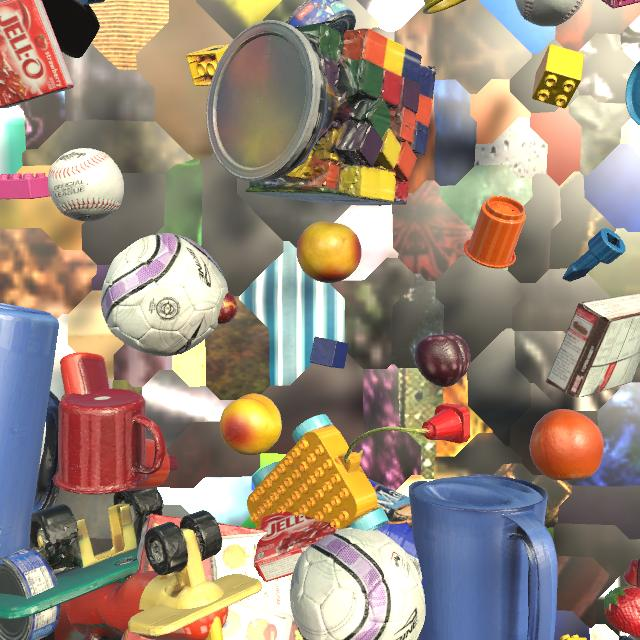ycb_002_master_chef_can: (367, 478, 424, 591)
ycb_003_cracker_box: (121, 513, 303, 640)
ycb_007_tuna_fish_can: (0, 549, 61, 640), (286, 0, 356, 34)
ycb_008_pudding_box: (546, 293, 640, 398)
ycb_009_gelatin_box: (0, 0, 74, 109), (253, 511, 338, 582)
ycb_012_strawberry: (604, 586, 640, 638)
ycb_015_peach: (296, 221, 362, 283), (220, 394, 282, 455)
ycb_017_orange: (530, 409, 604, 481)
ycb_018_plum: (414, 333, 471, 387)
